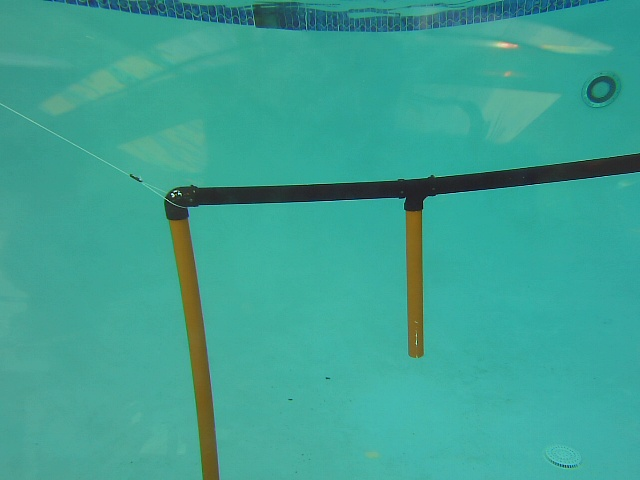Gate: (163, 214, 221, 480), (400, 201, 426, 360)
